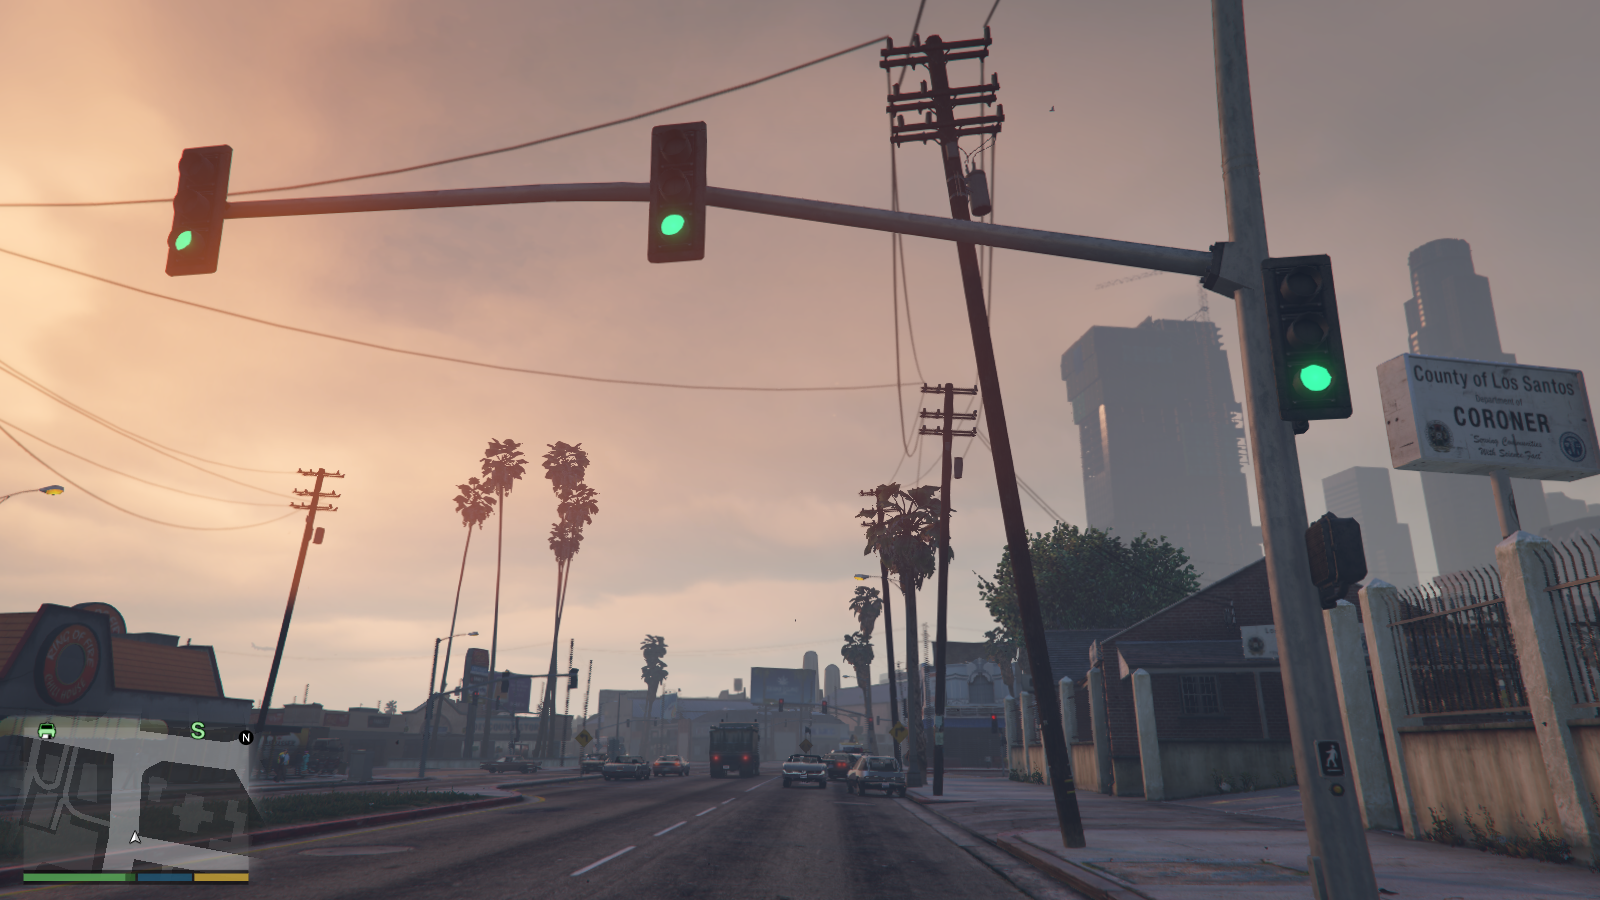green: (1256, 252, 1355, 419), (163, 148, 238, 275), (643, 125, 711, 264)
